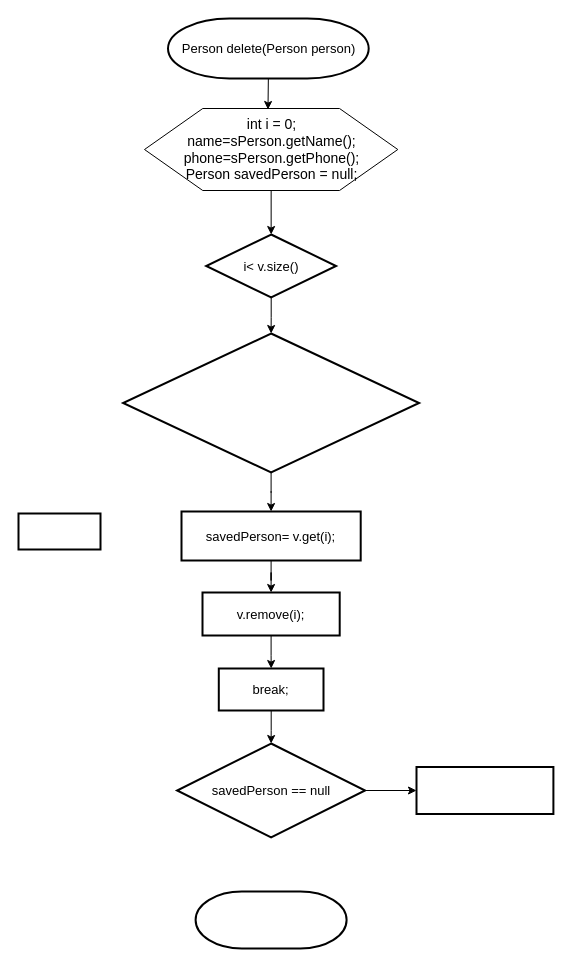
Some shapes in this 571 by 966 pixel diagram are drawn without their labels. The shapes that lost their labels are listed below. From the top down, each one's centre as x and y in pixels, then its label:
At pixel 271 402: "v.get(i).getPhone().equals( phone ) || v.get(i).getName().equals(name)".
At pixel 59 531: "i++".
At pixel 484 790: "errorStatus =2;".
At pixel 270 919: "return savedPerson;".
